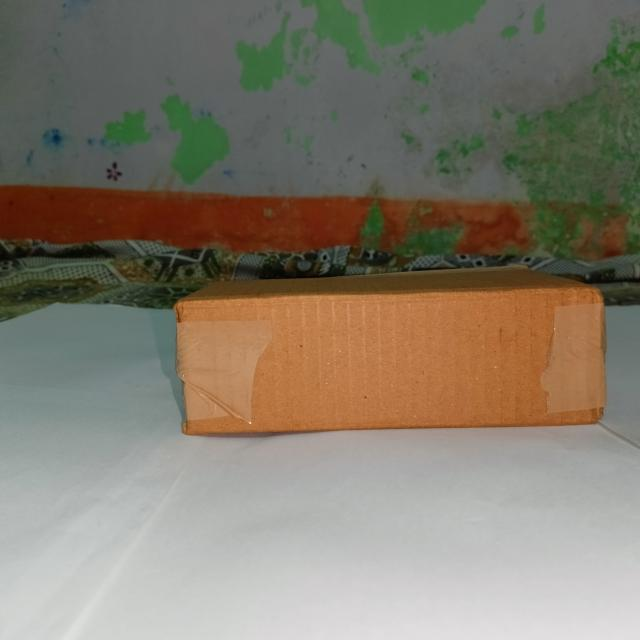box: (178, 289, 607, 431)
